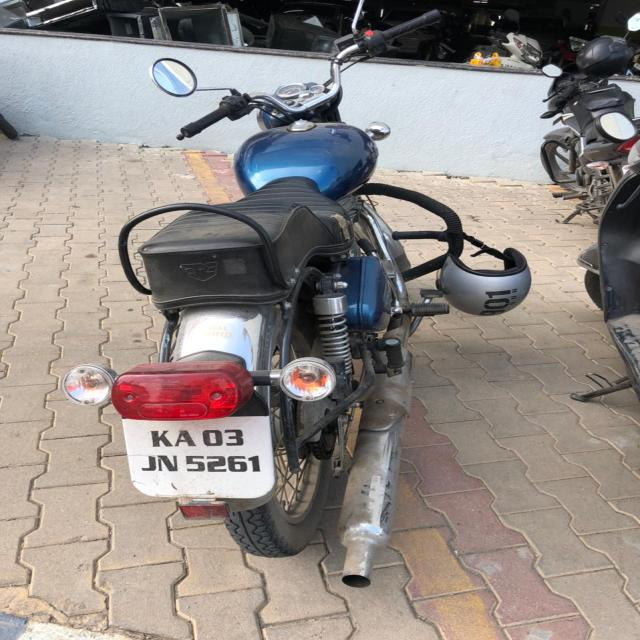number plate: (120, 414, 276, 500)
